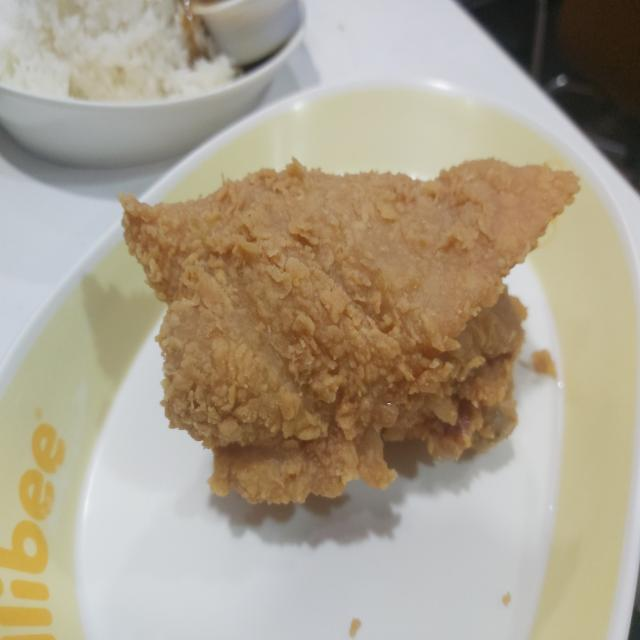Chicken -Fried Chicken-: (96, 138, 588, 546)
